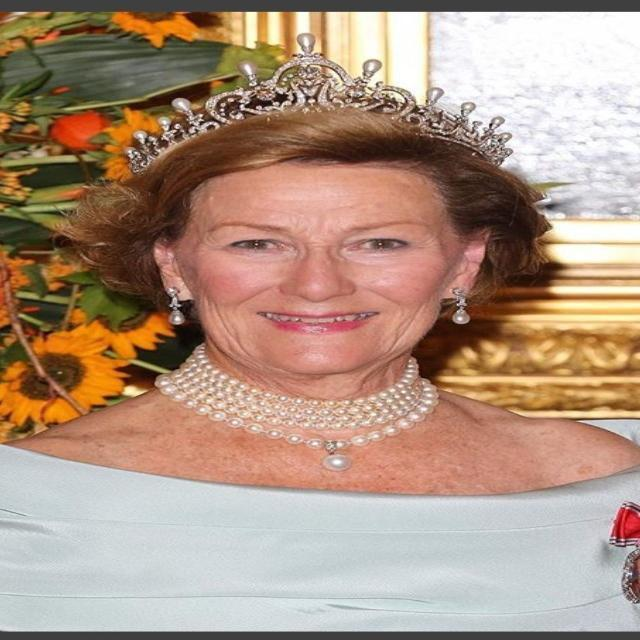Earring: (442, 280, 492, 336), (162, 289, 202, 339)
